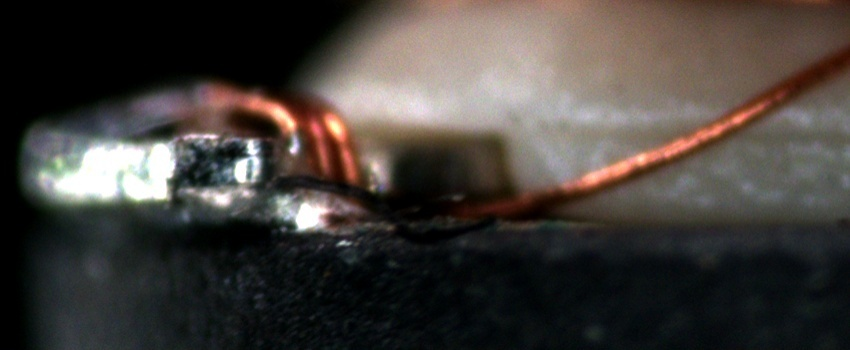DL: (543, 96, 850, 160)
TE: (174, 71, 367, 199)
